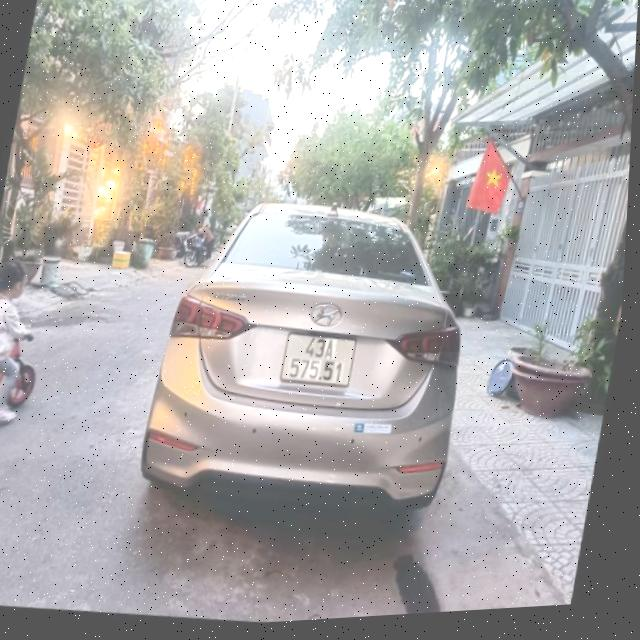car: (133, 158, 492, 547)
motorcycle: (0, 333, 36, 450)
plate: (271, 323, 364, 398)
